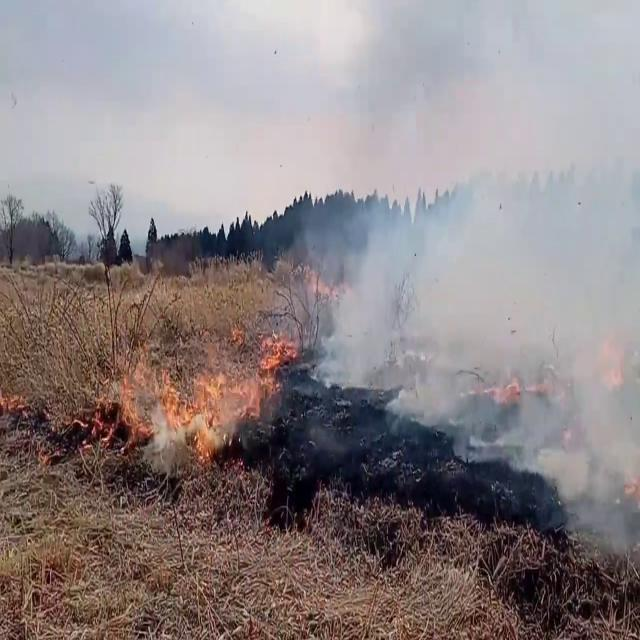Fire: (156, 329, 292, 466)
Smoke: (306, 14, 640, 577)
